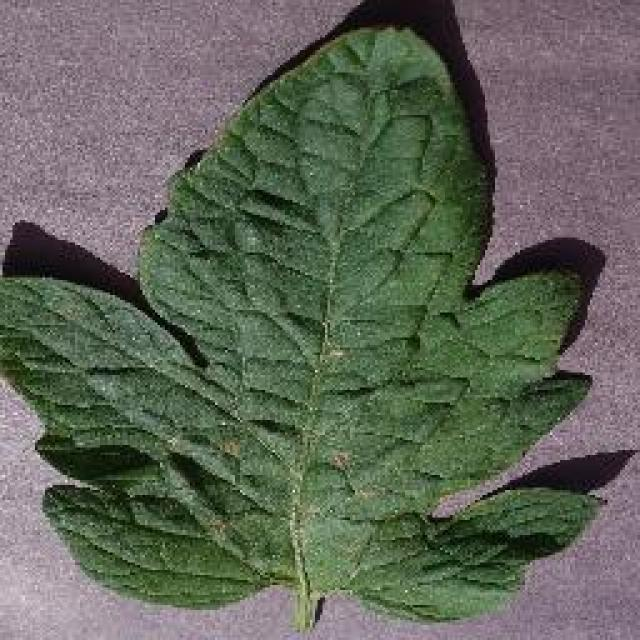Tomato Septoria spot leaf: (0, 17, 605, 625)
